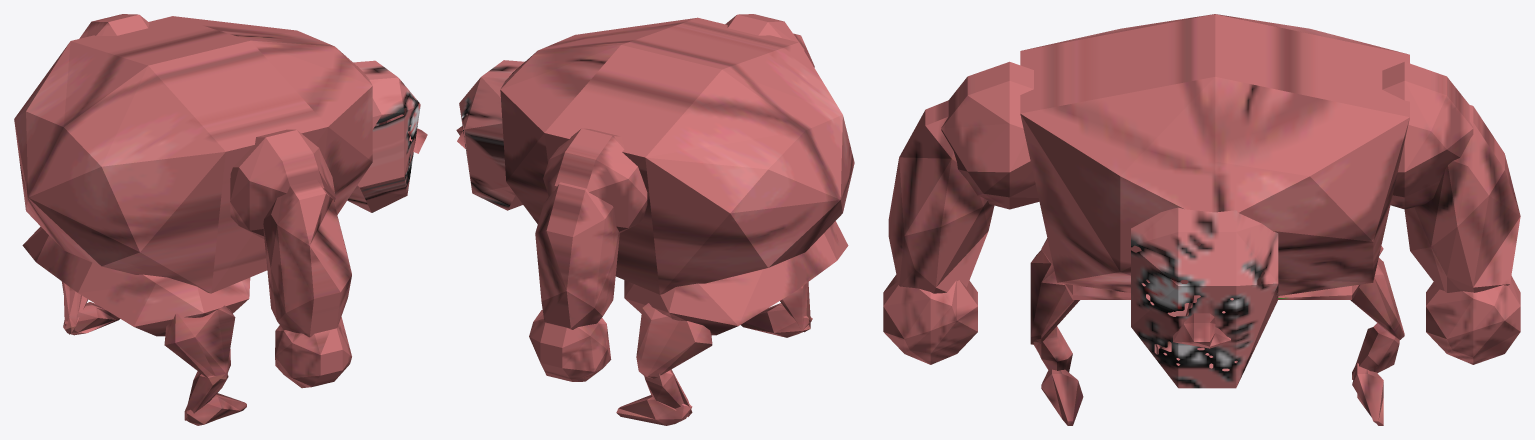
Rendered from FBully.glb.
3 renders of one model, left to right at view 1: azimuth 30°, elevation 25°; view 2: azimuth 150°, elevation 25°; view 3: azimuth 270°, elevation 25°, orthographic. The views are drawn at different scales.
Visible parts, largest first — view 1: FBully; view 2: FBully; view 3: FBully.
Part boxes in pixels (x1,y1,x2,y2): FBully: (14,14,427,425); FBully: (456,14,854,425); FBully: (883,14,1520,425).
Bounding box in the file's own units: 112 × 84.71 × 125.
1 material, 1 textured.
